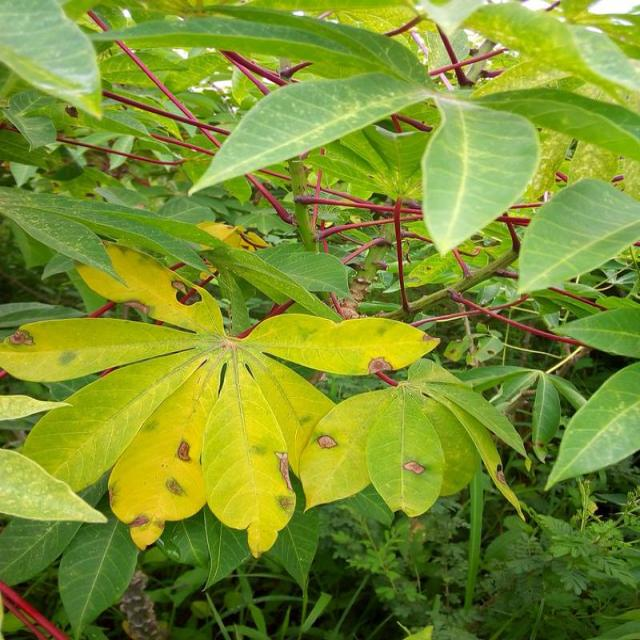cassava leaf: (2, 236, 444, 560), (188, 70, 437, 198), (421, 94, 542, 257), (517, 176, 640, 294)
